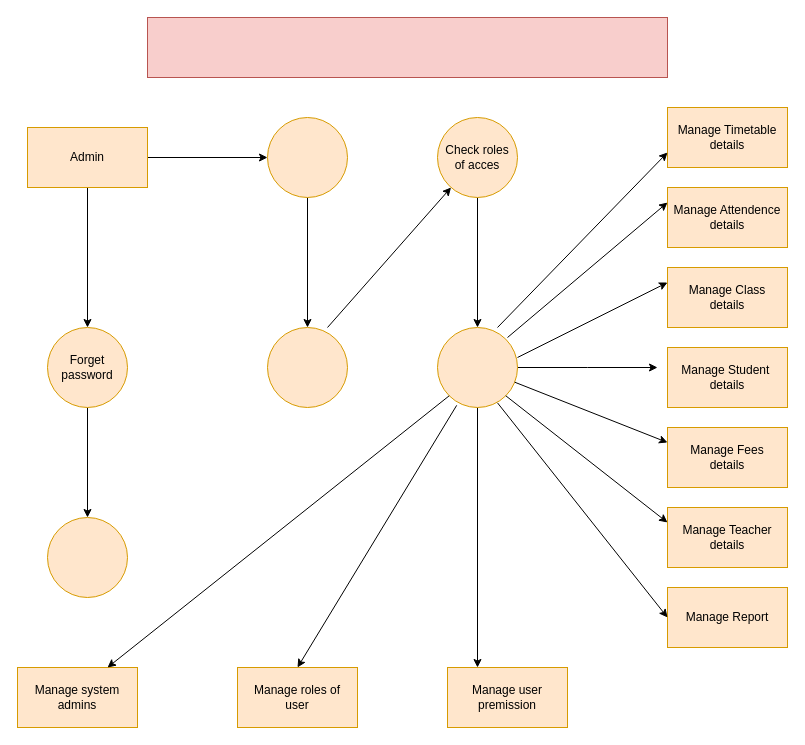
This 805x745 diagram has some shape labels left out. Each missing label, with the box of its shape:
Check credentials: (266, 326, 348, 408)
Login to system: (266, 116, 348, 198)
Manage Modules: (436, 326, 518, 408)
Send email to user: (46, 516, 128, 598)
Student Information System: (146, 16, 668, 78)
